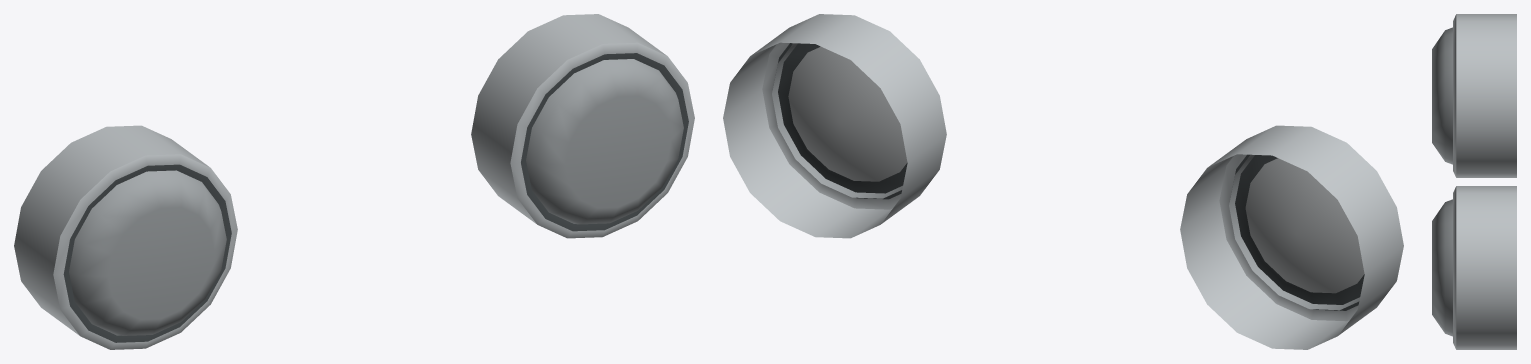
The model's file is Car_12_Headlight_Simple.fbx.
3 views of the same model, side by side, from view 1: azimuth 30°, elevation 25°; view 2: azimuth 150°, elevation 25°; view 3: azimuth 270°, elevation 25° (orthographic). The views are drawn at different scales.
Parts seen in each view (by area): view 1: Car_12_Headlight_Simple; view 2: Car_12_Headlight_Simple; view 3: Car_12_Headlight_Simple.
Boxes of the visible parts, bbox=[...] form: Car_12_Headlight_Simple: bbox=[14, 14, 694, 349]; Car_12_Headlight_Simple: bbox=[723, 14, 1403, 349]; Car_12_Headlight_Simple: bbox=[1432, 14, 1516, 349].
Size of the model in its own units: 96.38 by 14.3 by 27.72.
